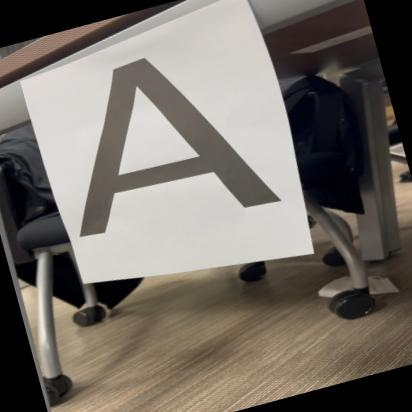seat: (34, 27, 296, 260)
